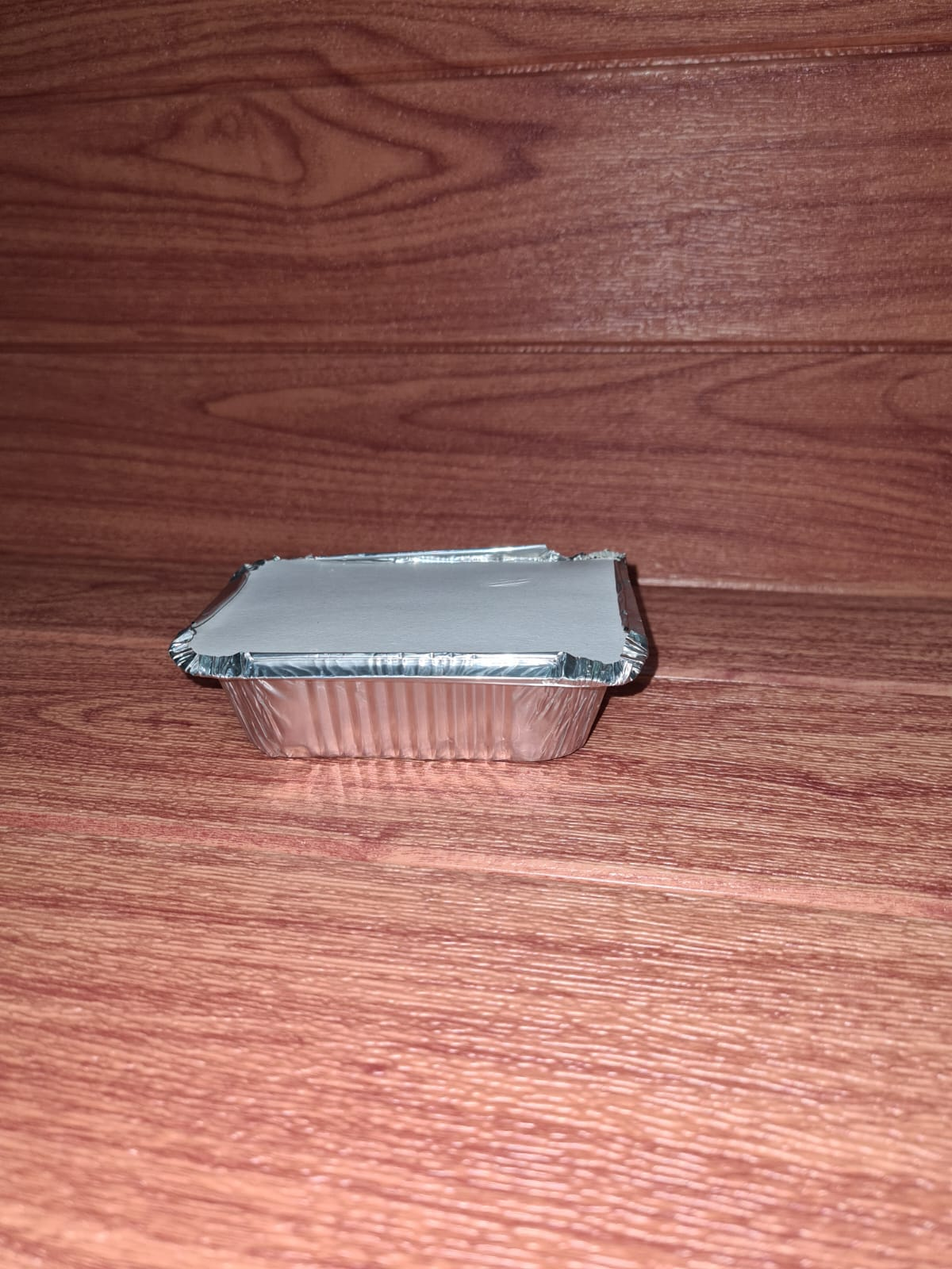Metal: (157, 524, 690, 778)
